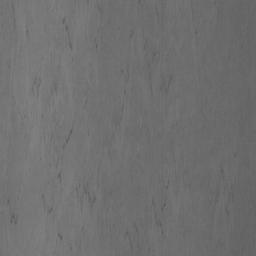Silk spot: (0, 0, 191, 256), (96, 0, 198, 160), (200, 167, 234, 216), (7, 168, 20, 225)
